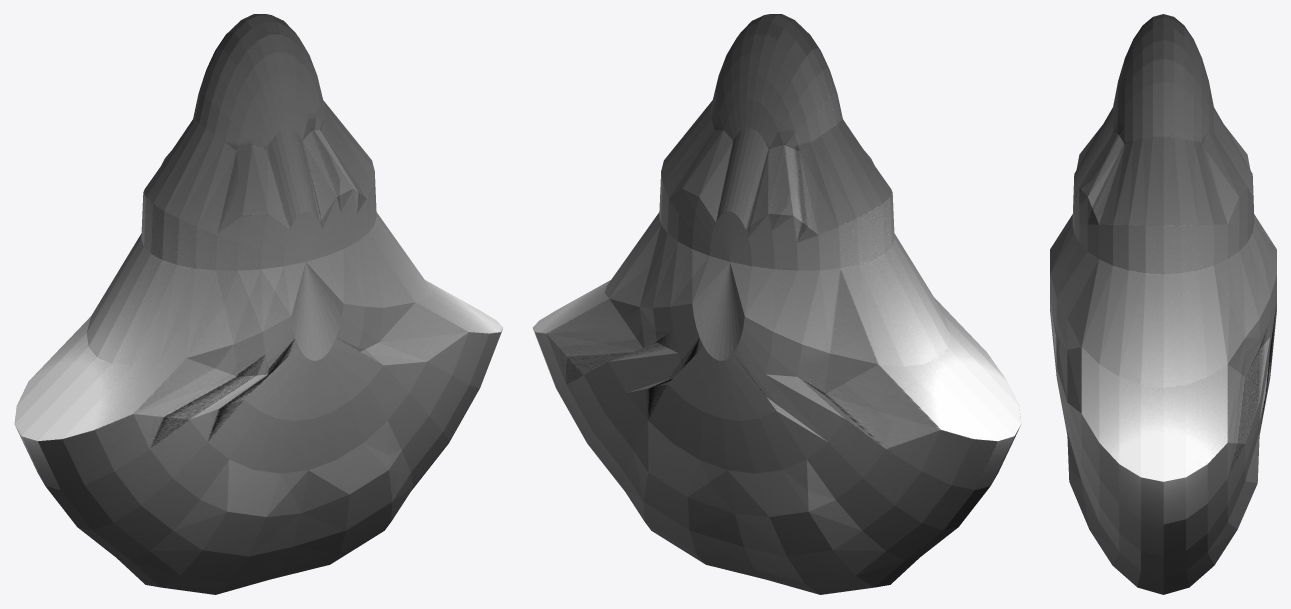
The model's file is puffofsteam4.dae.
3 renders of one model, left to right at view 1: azimuth 30°, elevation 25°; view 2: azimuth 150°, elevation 25°; view 3: azimuth 270°, elevation 25°, orthographic. The views are drawn at different scales.
Parts seen in each view (by area): view 1: Sphere; view 2: Sphere; view 3: Sphere.
Boxes of the visible parts, x1,y1,x2,y2 form: Sphere: [14, 14, 503, 594]; Sphere: [532, 14, 1021, 594]; Sphere: [1050, 14, 1276, 594].
Bounding box in the file's own units: 5.29 × 2.26 × 6.
1 material, 1 textured.
